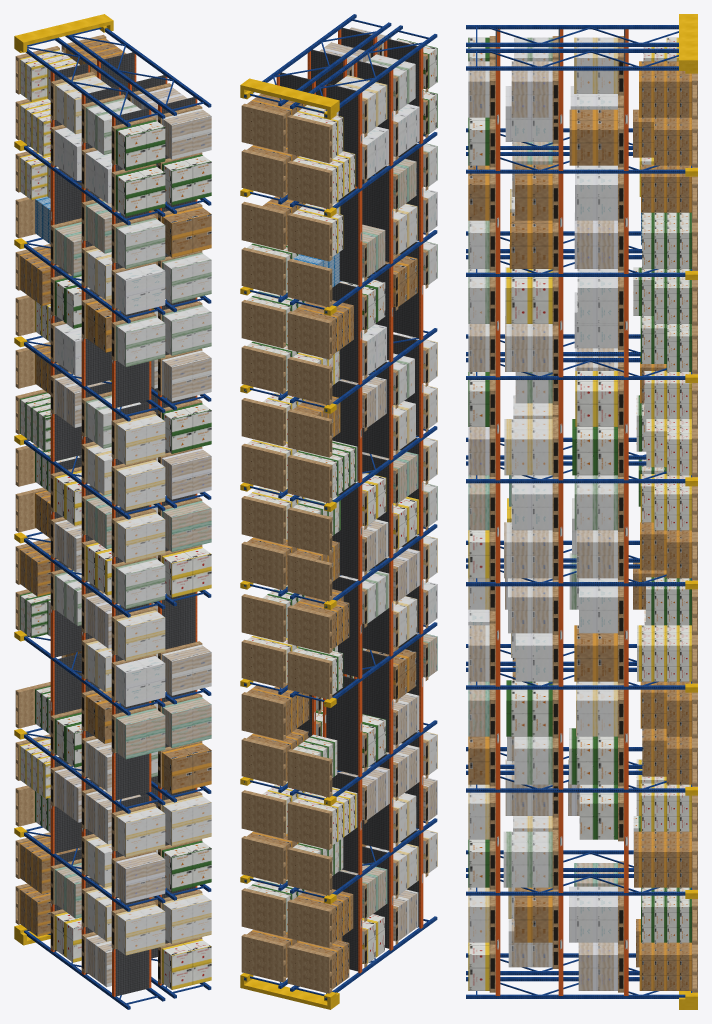
Rendered from racks_w3_n.gltf.
3 views of the same model, side by side, from view 1: azimuth 30°, elevation 25°; view 2: azimuth 150°, elevation 25°; view 3: azimuth 270°, elevation 25° (orthographic). The views are drawn at different scales.
Visible parts, largest first — view 1: racks_w3_n; view 2: racks_w3_n; view 3: racks_w3_n.
Boxes of the visible parts, x1=… form: racks_w3_n: x1=14, y1=14, x2=211, y2=1009; racks_w3_n: x1=240, y1=14, x2=437, y2=1009; racks_w3_n: x1=466, y1=14, x2=697, y2=1009.
Size of the model in its own units: 2.6 by 24.86 by 5.5.
18 materials, 18 textured.
